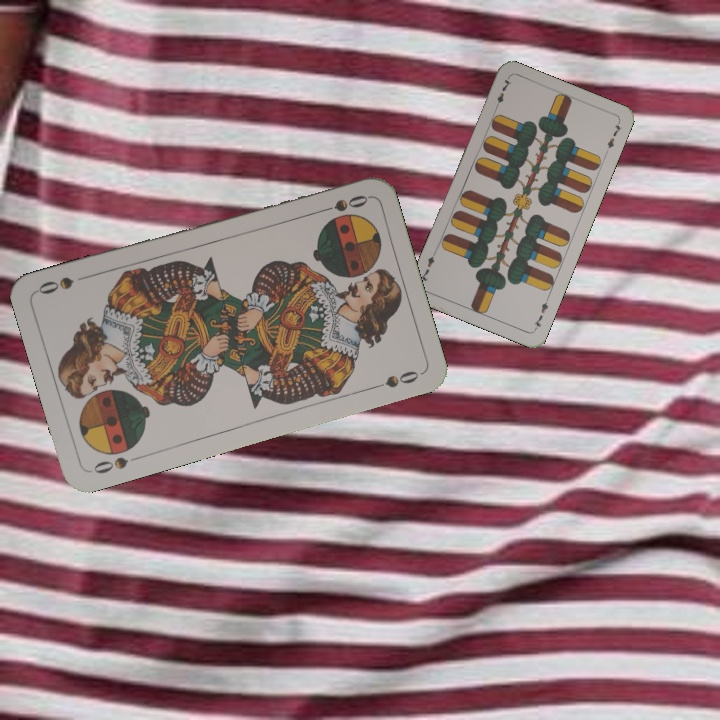E7: (490, 74, 514, 113), (530, 294, 552, 333)
SO: (312, 191, 371, 217), (89, 451, 145, 476)
